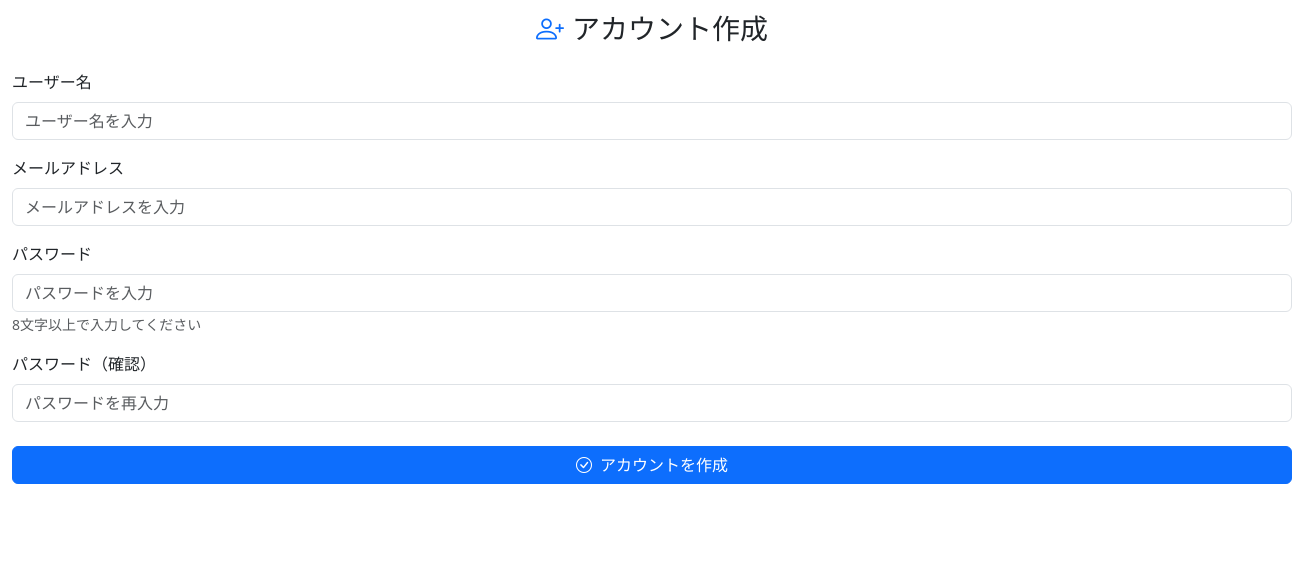
Test: Register コンポーネント › パスワード不一致時
In the field with placeholder "ユーザー名を入力": {"x": 652, "y": 121} [12,102,1292,140], type "newuser"
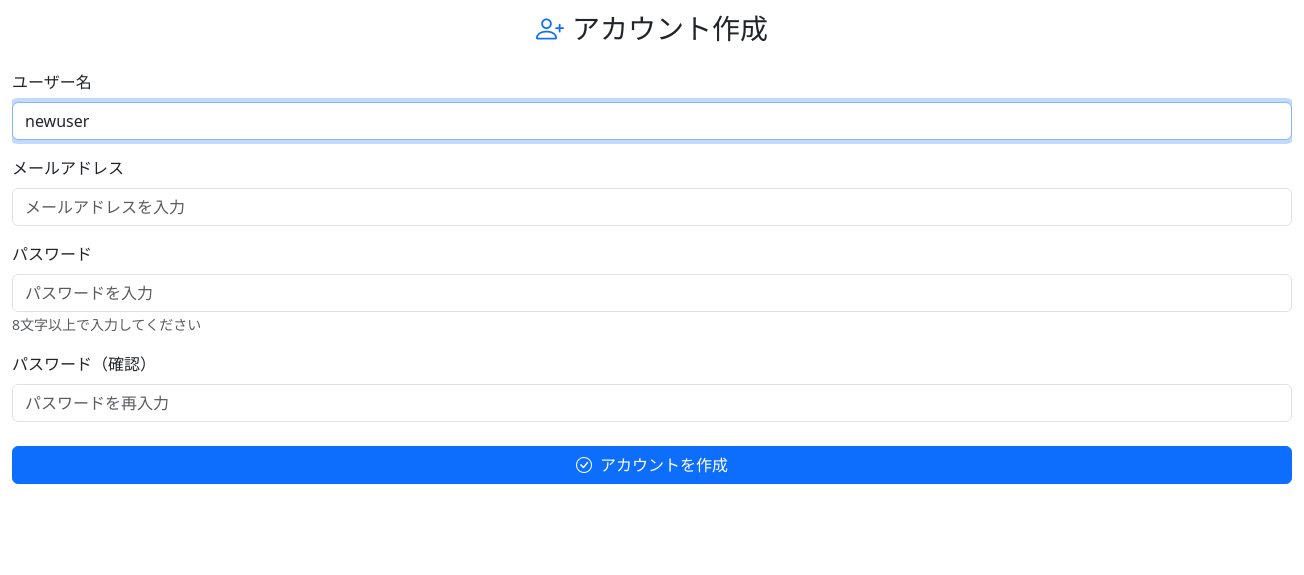
In the password field with placeholder "パスワードを入力": {"x": 652, "y": 293} [12,274,1292,312], type "password123"
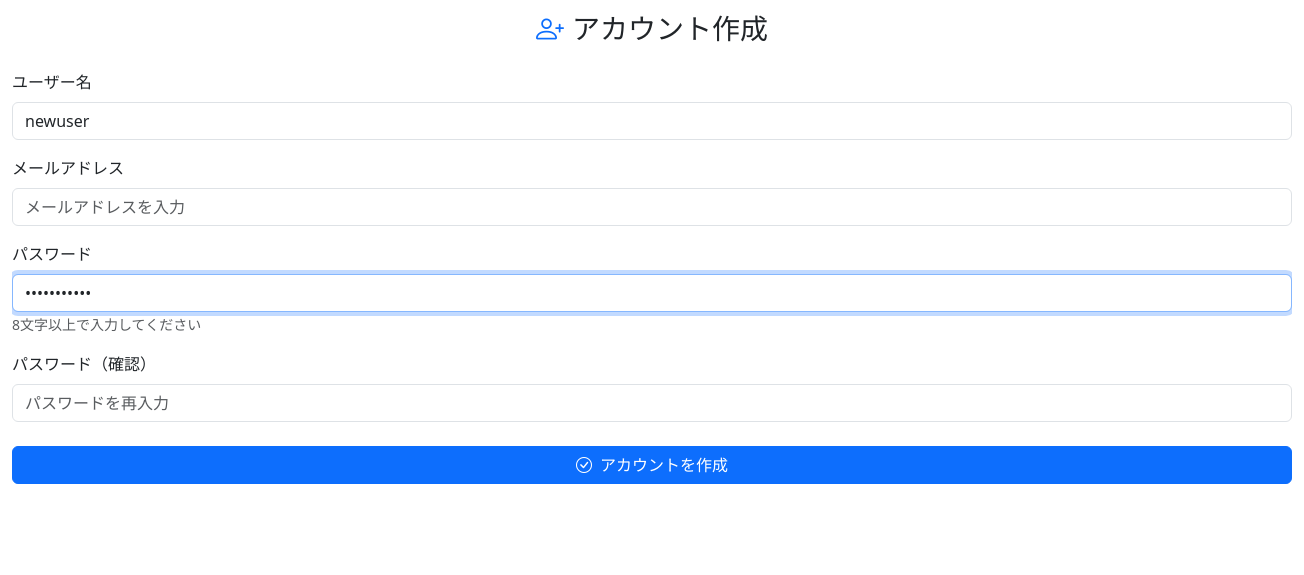
In the password field with placeholder "パスワードを再入力": {"x": 652, "y": 403} [12,384,1292,422], type "different123"
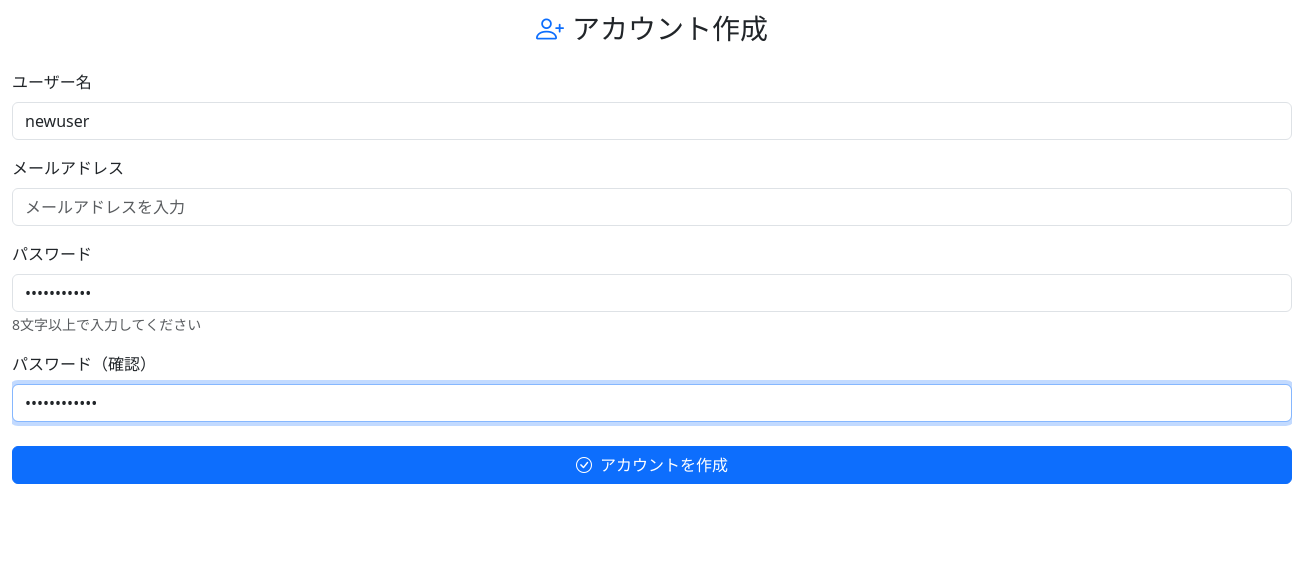
Click the button "アカウントを作成": {"x": 652, "y": 465} [12,446,1292,484]
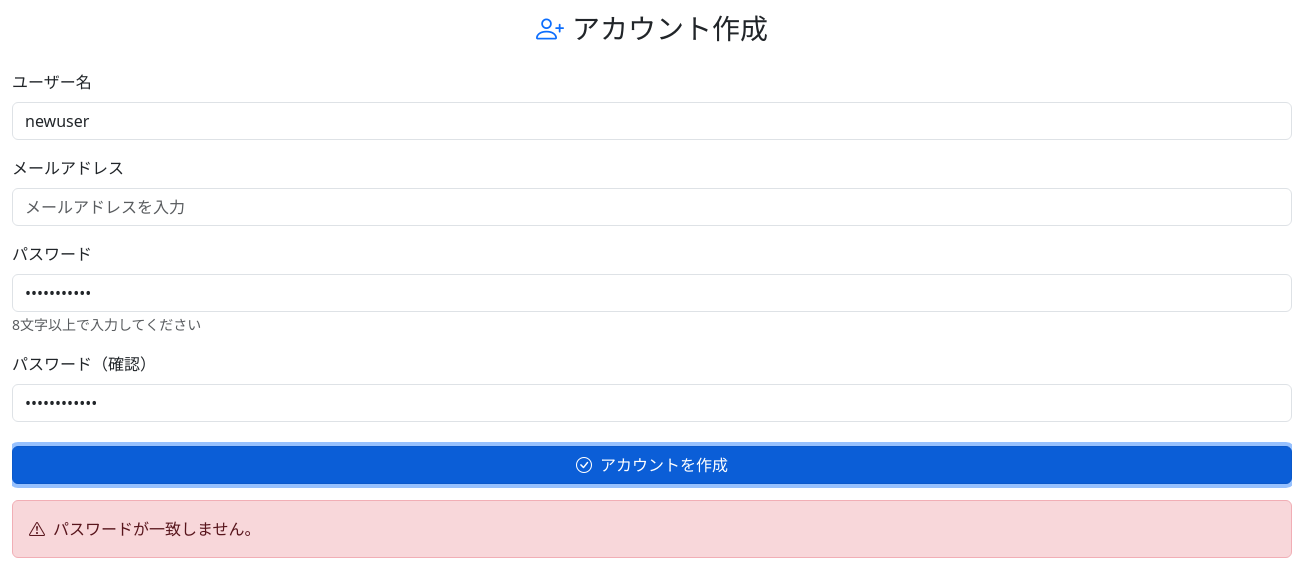
Result: the text "パスワードが一致しません。" is shown at [12,500,1292,558]
